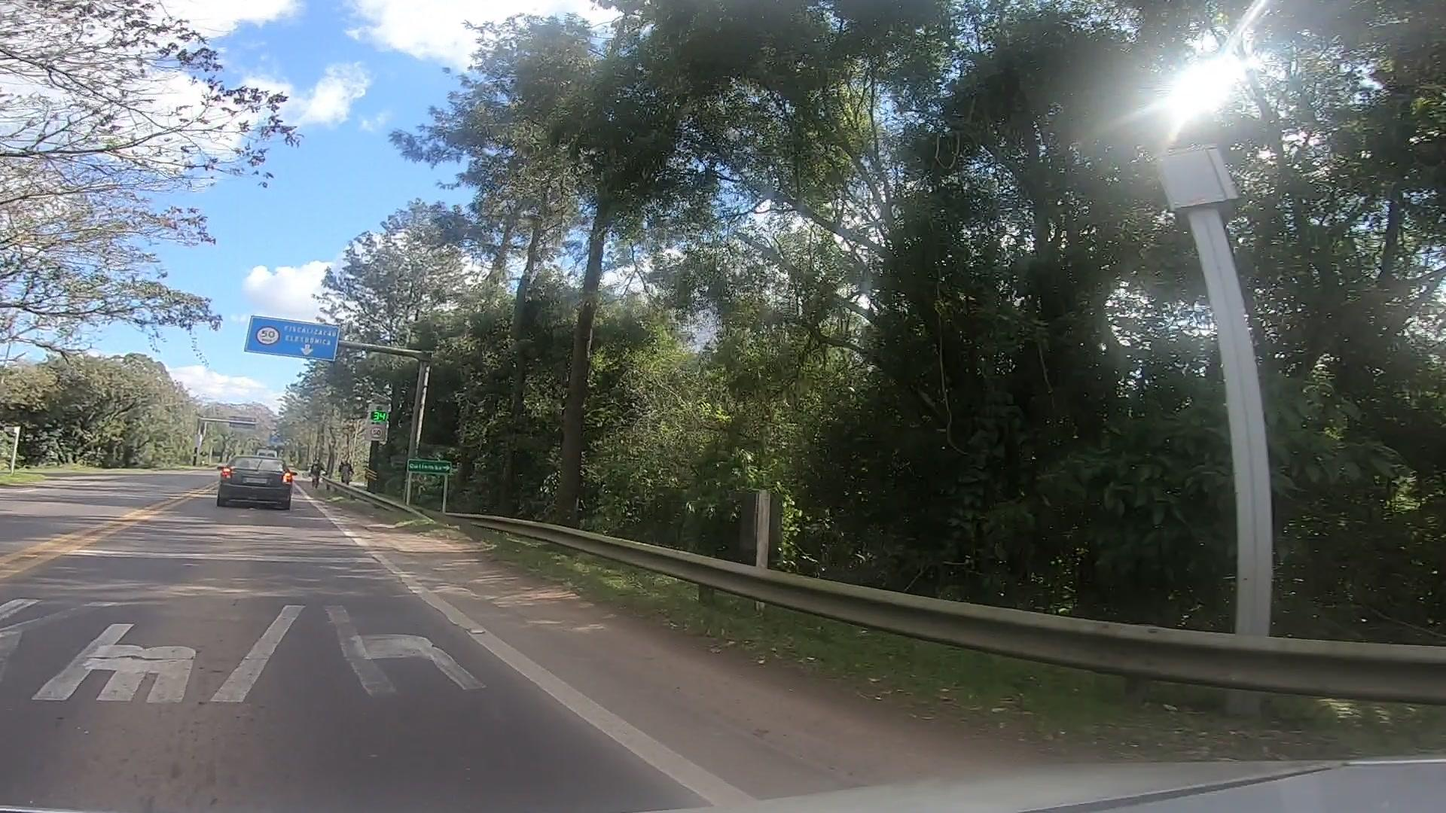R-19: (253, 324, 284, 348)
